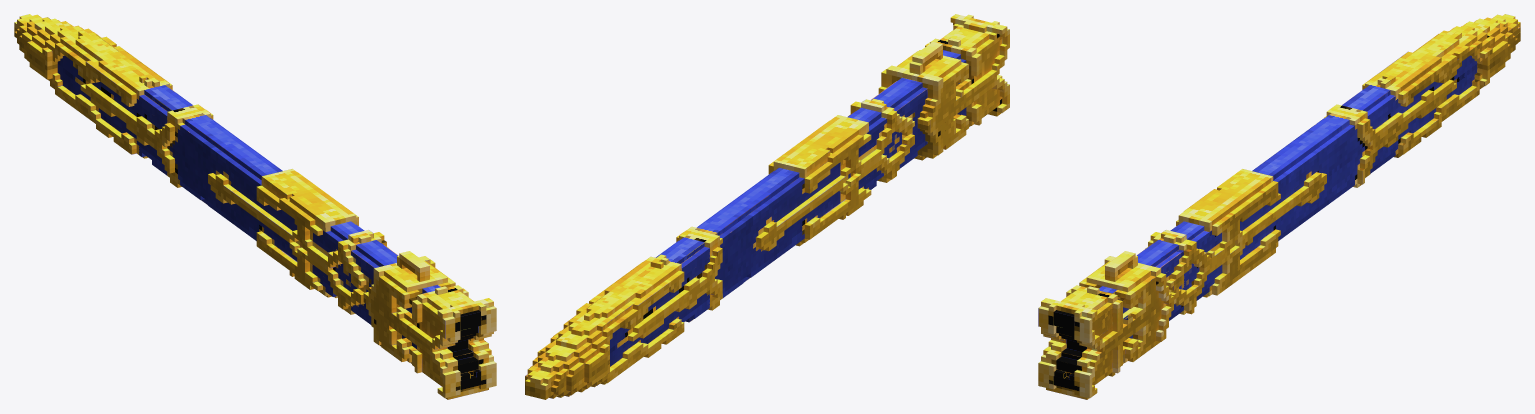
File: voxel_arbiters_sheath_ms.obj
3 views of the same model, side by side, from view 1: azimuth 30°, elevation 25°; view 2: azimuth 150°, elevation 25°; view 3: azimuth 330°, elevation 25° (orthographic).
Parts seen in each view (by area): view 1: voxel_arbiters_sheath_ms; view 2: voxel_arbiters_sheath_ms; view 3: voxel_arbiters_sheath_ms.
Part boxes in pixels (x1,y1,x2,y2): voxel_arbiters_sheath_ms: (14, 14, 496, 399); voxel_arbiters_sheath_ms: (525, 14, 1009, 399); voxel_arbiters_sheath_ms: (1038, 14, 1520, 399).
Size of the model in its own units: 0.1896 by 0.3228 by 2.59.
